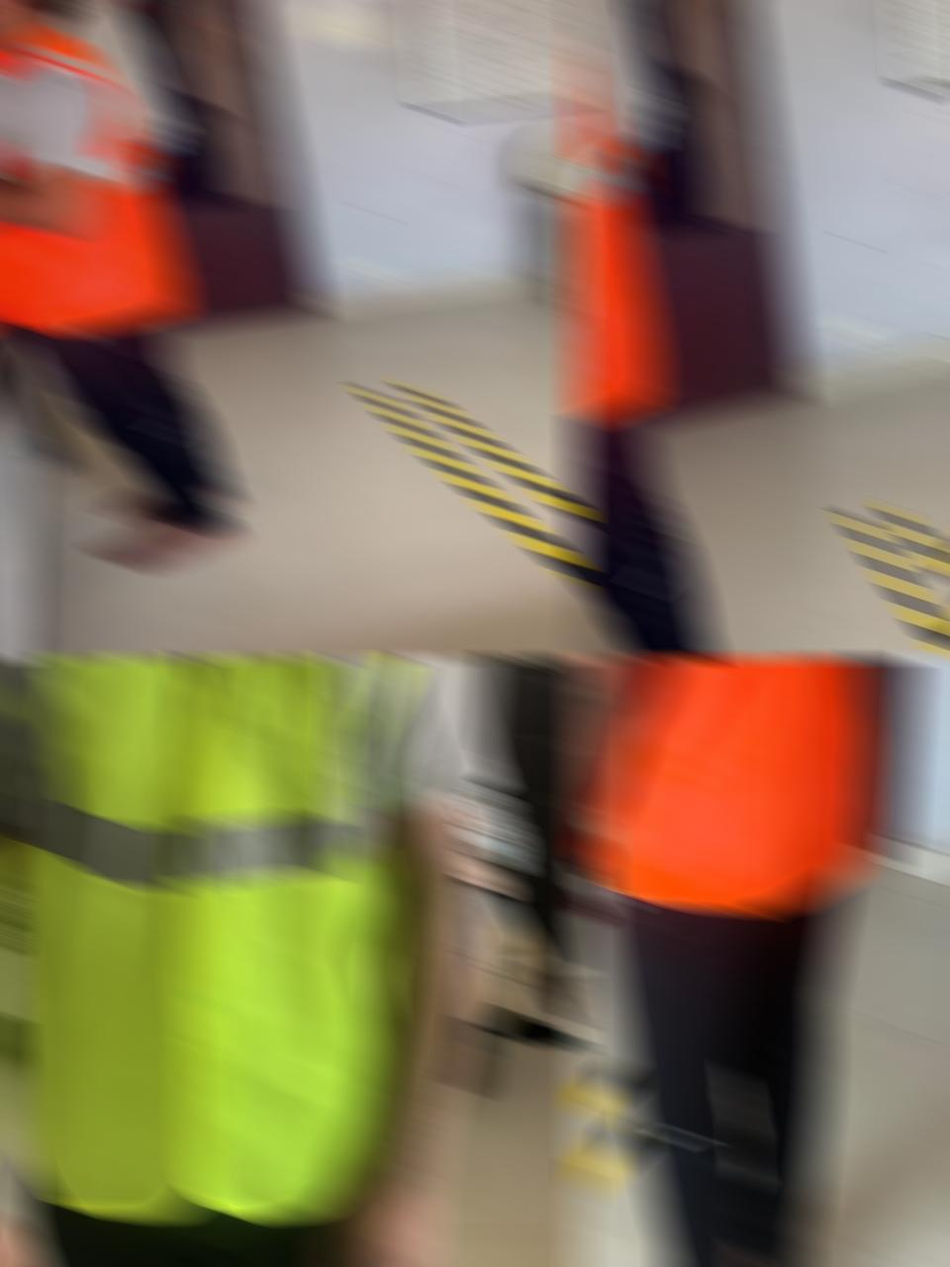BorderLine: (358, 379, 587, 591), (838, 501, 950, 660)
No_Helmet: (0, 0, 85, 69)
Person: (0, 655, 506, 1267), (571, 655, 894, 1267), (0, 0, 241, 573), (571, 0, 725, 660)
Vest: (0, 655, 426, 1221), (584, 656, 896, 916), (0, 27, 190, 333), (571, 0, 662, 435)
